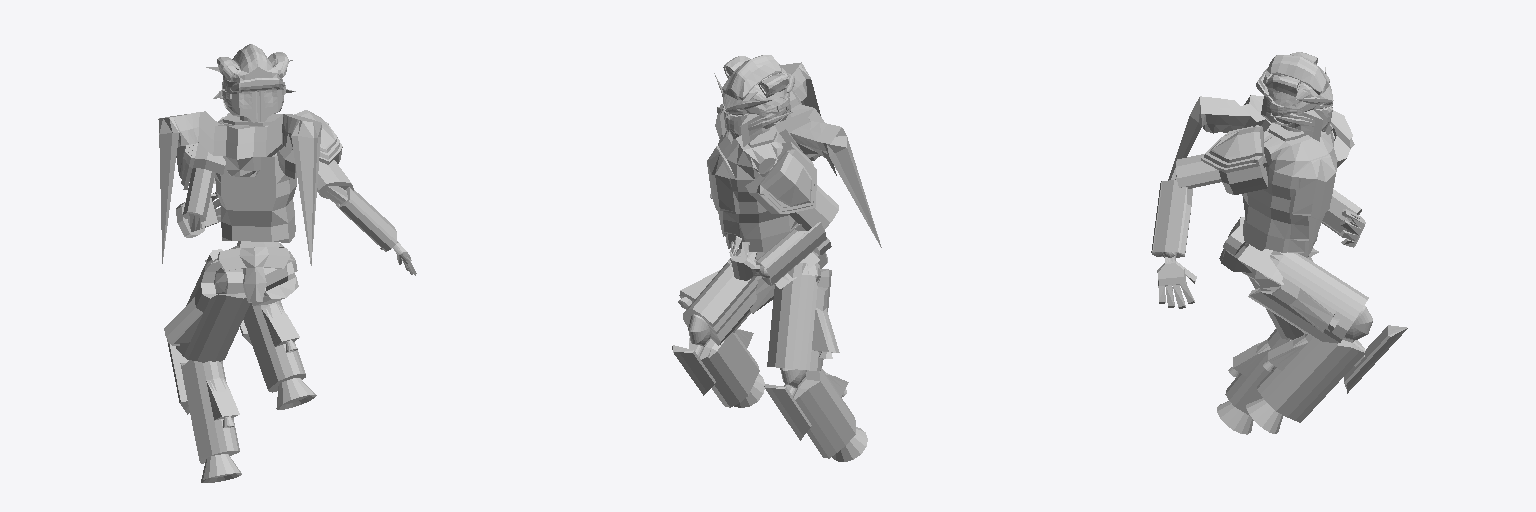
The model's file is punch0.obj.
3 renders of one model, left to right at view 1: azimuth 30°, elevation 25°; view 2: azimuth 150°, elevation 25°; view 3: azimuth 270°, elevation 25°, orthographic.
Parts seen in each view (by area): view 1: Bottom_Half_Cube.008; view 2: Bottom_Half_Cube.008; view 3: Bottom_Half_Cube.008.
Part boxes in pixels (x1,y1,x2,y2): Bottom_Half_Cube.008: (158, 44, 416, 482); Bottom_Half_Cube.008: (672, 55, 881, 461); Bottom_Half_Cube.008: (1151, 52, 1407, 434).
Bounding box in the file's own units: 1.02 × 1.9 × 1.1.